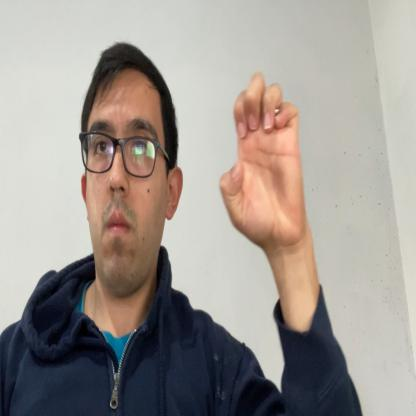E: (218, 70, 308, 244)
